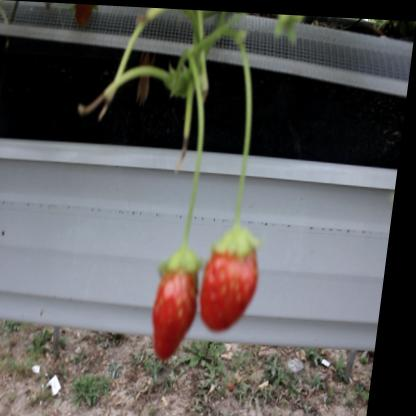ripe: (149, 246, 217, 364), (200, 233, 268, 335)
